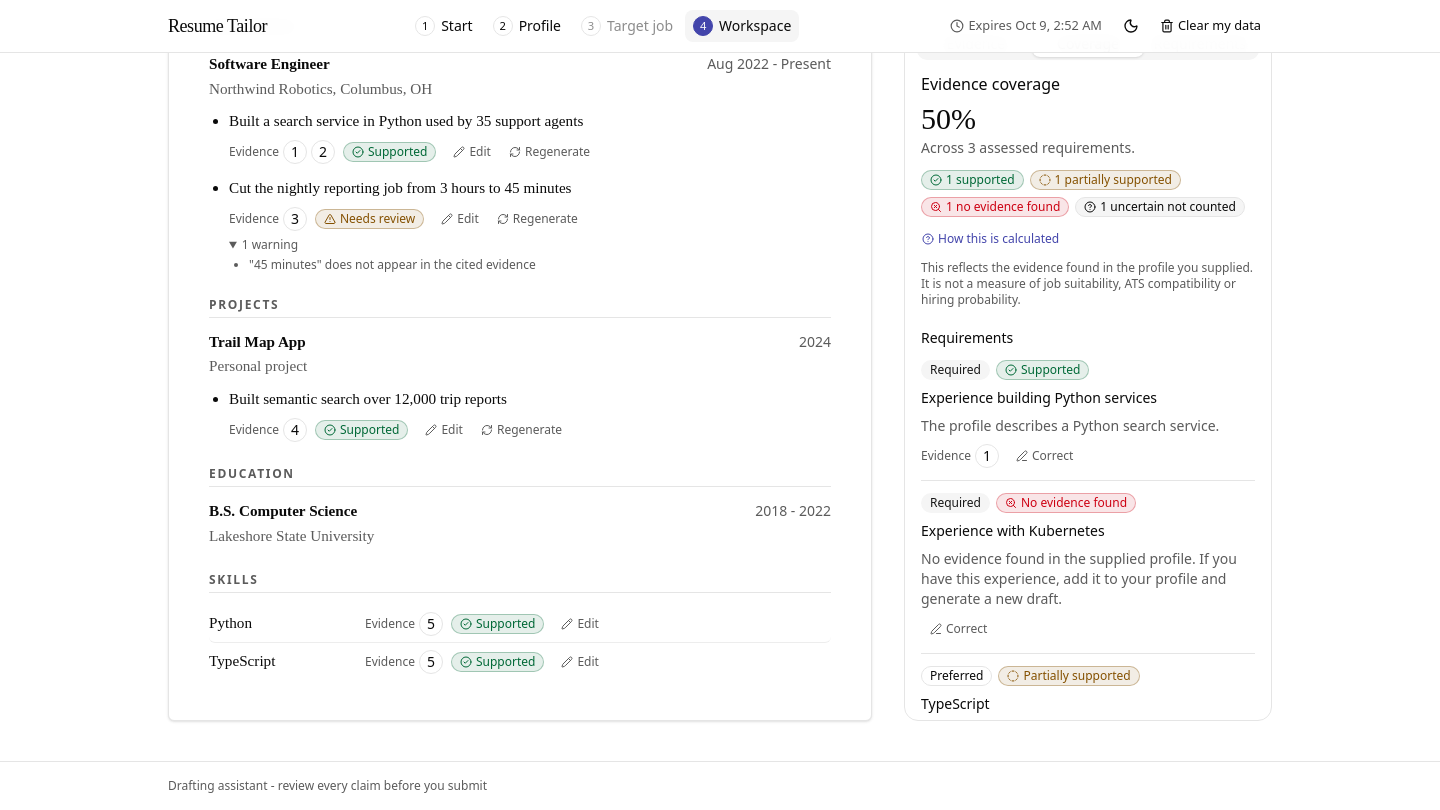
Test: Workspace evidence panel (two panes) › labels evidence the user typed during profile review
The image size is (1440, 810).
(page scrolled)
Click the button named "Show evidence 4 for this statement". click: [295, 430]
box: x1=283 y1=418 x2=307 y2=442
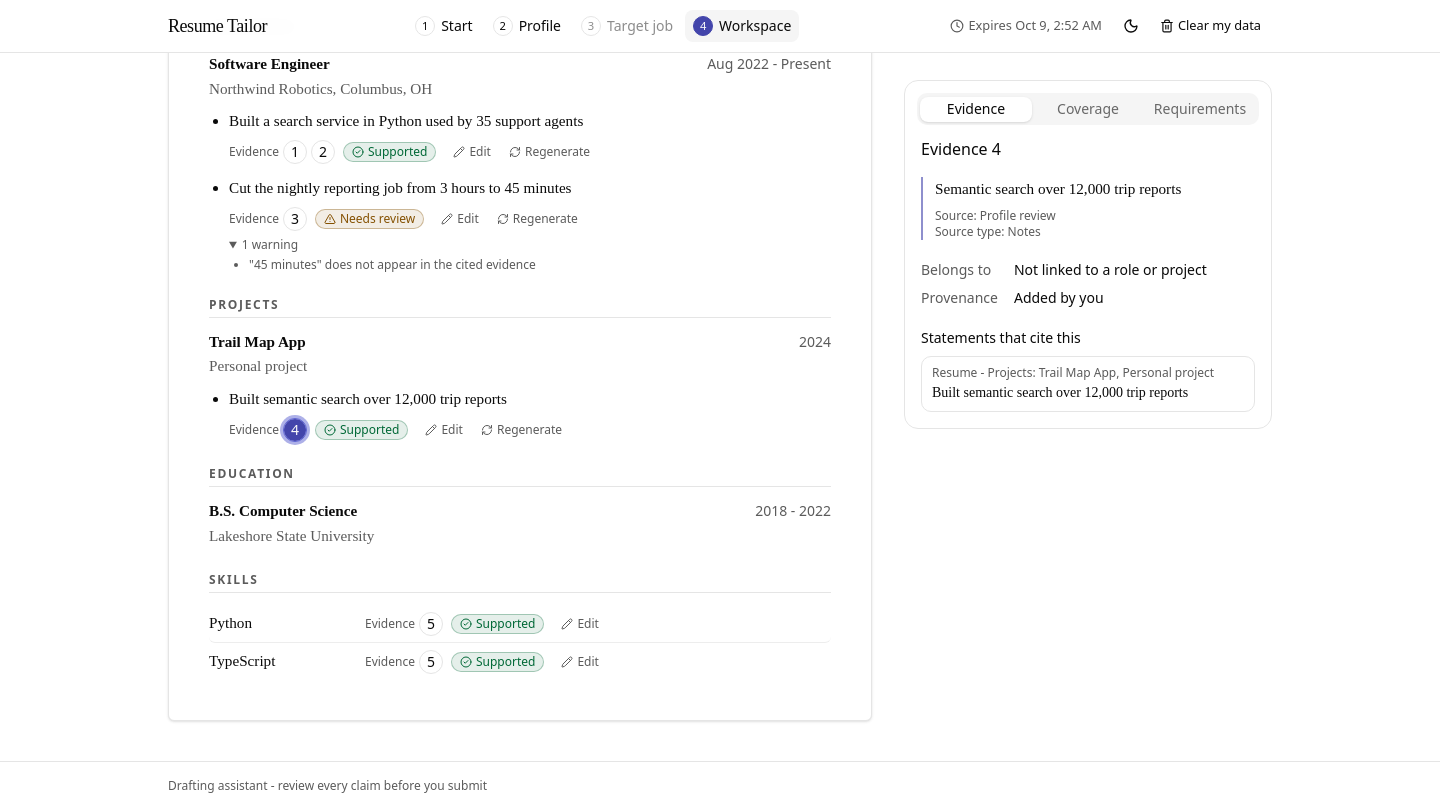
Expected: the text "Added by you" is shown, x1=1014 y1=288 x2=1104 y2=307
Expected: the text "Source type: Notes" is shown, x1=935 y1=223 x2=1041 y2=240
Expected: the text "Not linked to a role or project" is shown, x1=1014 y1=260 x2=1207 y2=279
